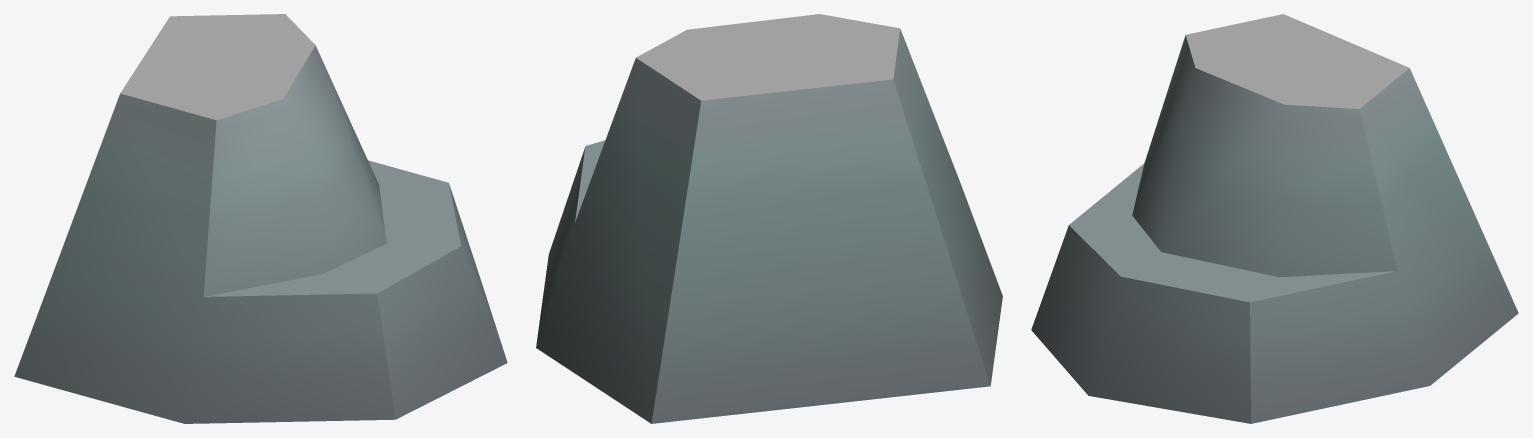
Rendered from rock.glb.
3 views of the same model, side by side, from view 1: azimuth 30°, elevation 25°; view 2: azimuth 150°, elevation 25°; view 3: azimuth 270°, elevation 25° (orthographic). The views are drawn at different scales.
Parts seen in each view (by area): view 1: rock_single_C; view 2: rock_single_C; view 3: rock_single_C.
Boxes of the visible parts, box(x1,y1,x2,y2) form: rock_single_C: box(14, 14, 507, 423); rock_single_C: box(536, 14, 1002, 423); rock_single_C: box(1031, 14, 1518, 423).
Bounding box in the file's own units: 0.3439 × 0.1948 × 0.3442.
1 material, 1 textured.
